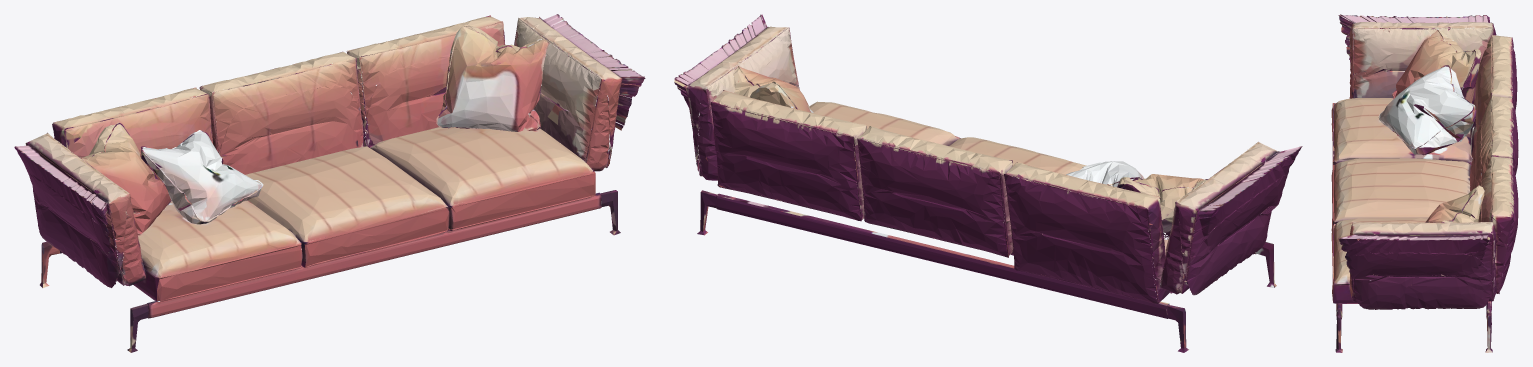
The model's file is edited_mesh.glb.
3 views of the same model, side by side, from view 1: azimuth 30°, elevation 25°; view 2: azimuth 150°, elevation 25°; view 3: azimuth 270°, elevation 25° (orthographic). The views are drawn at different scales.
Visible parts, largest first — view 1: solid_001_wire; view 2: solid_001_wire; view 3: solid_001_wire.
Part boxes in pixels (bbox=[...]): solid_001_wire: bbox=[14, 14, 645, 352]; solid_001_wire: bbox=[674, 14, 1302, 352]; solid_001_wire: bbox=[1331, 14, 1518, 352].
Size of the model in its own units: 2 by 0.577 by 0.7051.
1 material, 1 textured.
